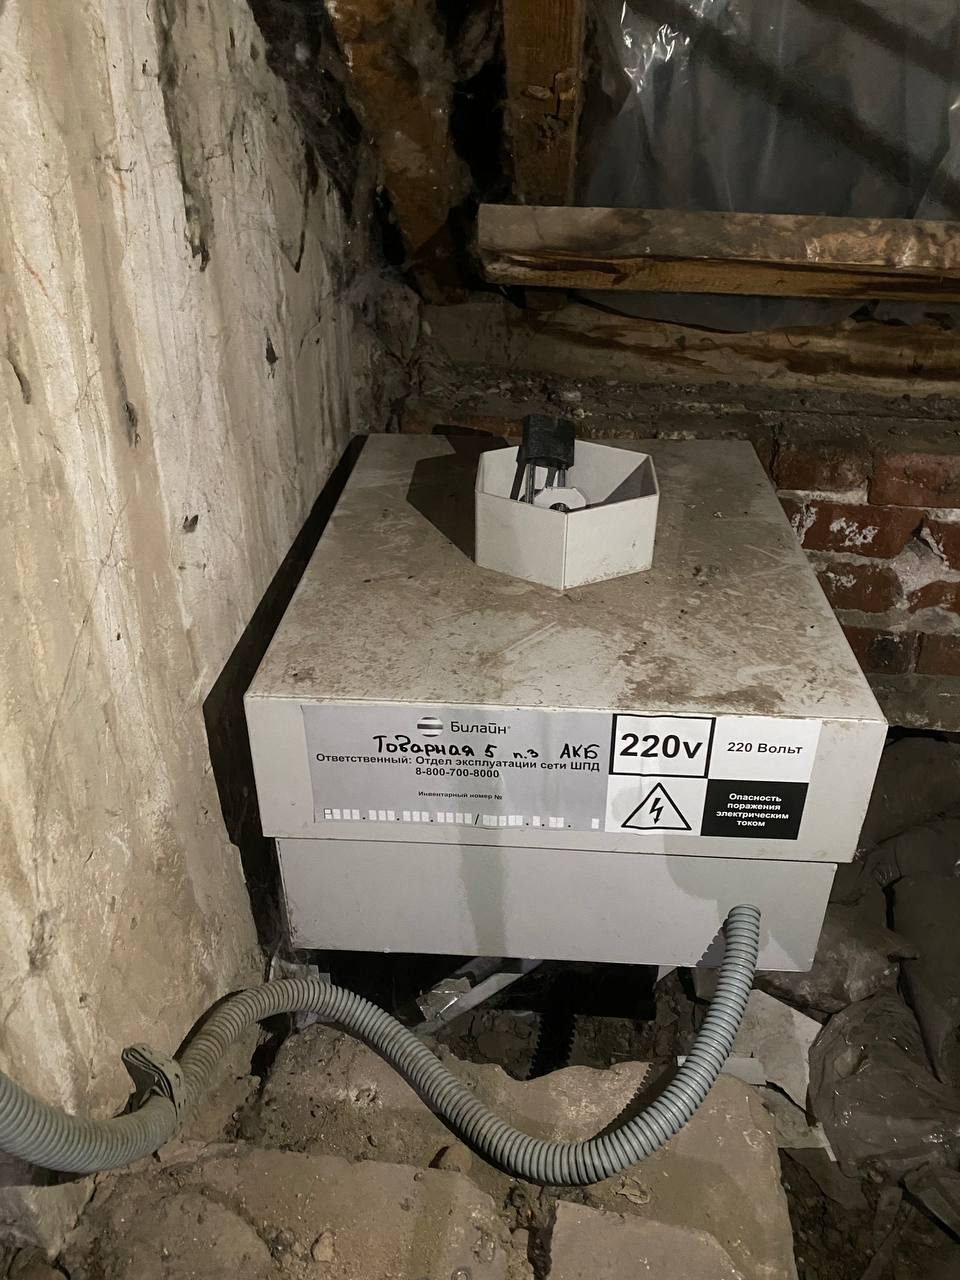shta-ps: (231, 428, 897, 986)
